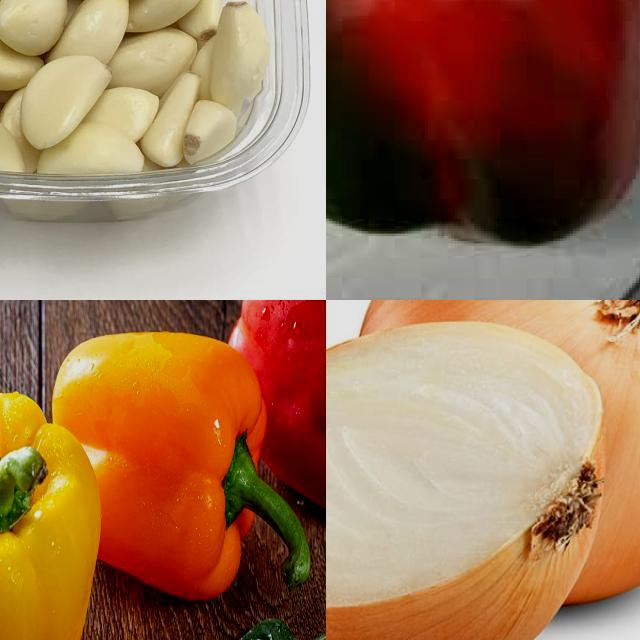bell_pepper: (327, 1, 640, 278), (36, 329, 316, 622), (1, 383, 99, 640), (223, 301, 327, 528)
garlic: (1, 1, 272, 171)
onion: (327, 324, 604, 640), (362, 301, 640, 606)
